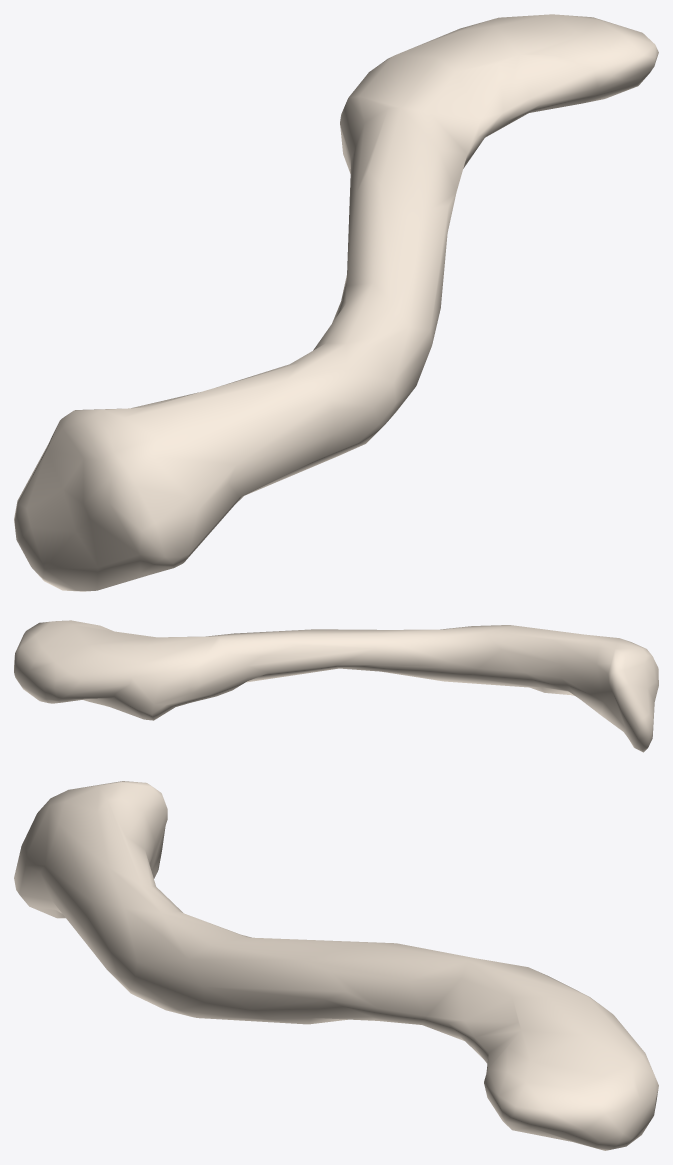
File: left_clavicle.glb
The picture shows the model from 3 angles, top to bottom: view 1: azimuth 30°, elevation 25°; view 2: azimuth 150°, elevation 25°; view 3: azimuth 270°, elevation 25°; orthographic projection. The views are drawn at different scales.
Parts seen in each view (by area): view 1: Clavicle.r; view 2: Clavicle.r; view 3: Clavicle.r.
Boxes of the visible parts, bbox=[...] form: Clavicle.r: bbox=[14, 14, 658, 591]; Clavicle.r: bbox=[14, 620, 658, 752]; Clavicle.r: bbox=[14, 781, 658, 1150].
Bounding box in the file's own units: 0.1397 × 0.0327 × 0.1015.
